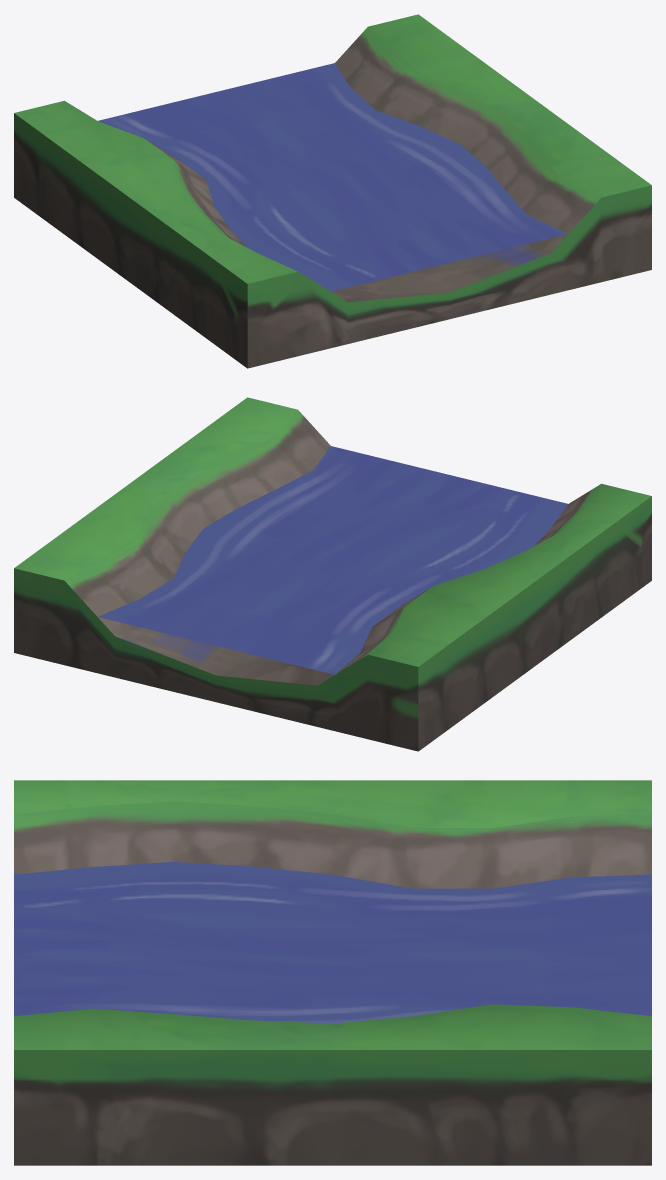
Rendered from river_03.fbx.
The picture shows the model from 3 angles, top to bottom: view 1: azimuth 30°, elevation 25°; view 2: azimuth 150°, elevation 25°; view 3: azimuth 270°, elevation 25°; orthographic projection. The views are drawn at different scales.
Visible parts, largest first — view 1: river_03; view 2: river_03; view 3: river_03.
Boxes of the visible parts, x1,y1,x2,y2 form: river_03: (14,14,651,368); river_03: (14,397,651,751); river_03: (14,780,651,1165).
Bounding box in the file's own units: 1000 × 200 × 1000.
1 material, 1 textured.
